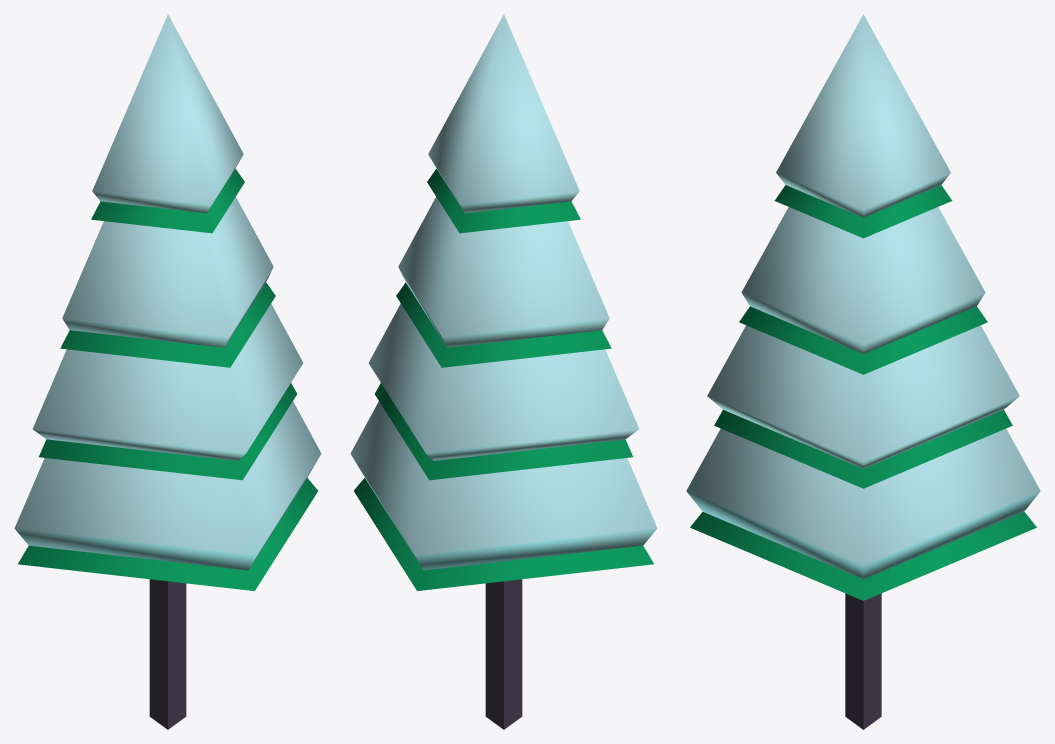
File: Pine2.fbx
The picture shows the model from 3 angles, left to right: view 1: azimuth 30°, elevation 25°; view 2: azimuth 150°, elevation 25°; view 3: azimuth 270°, elevation 25°; orthographic projection.
Visible parts, largest first — view 1: Pine2; view 2: Pine2; view 3: Pine2.
Part boxes in pixels (left/top/right/bottom): Pine2: left=14, top=14, right=321, bottom=729; Pine2: left=350, top=14, right=657, bottom=729; Pine2: left=686, top=14, right=1040, bottom=729.
Bounding box in the file's own units: 2.2 × 4.85 × 2.2.
